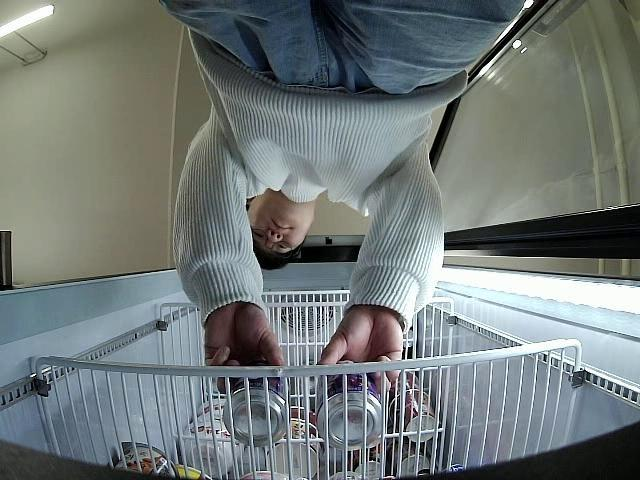14_welchsGrape: (316, 356, 385, 449), (223, 360, 292, 450)
